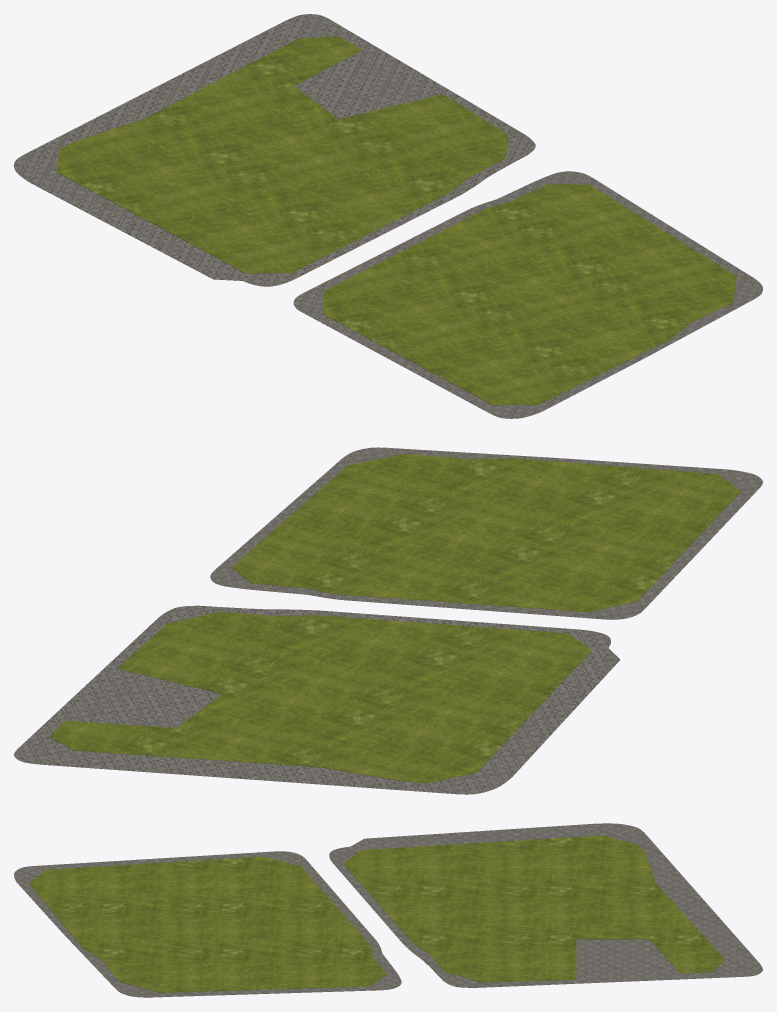
Rendered from EF_floor.FBX.
3 renders of one model, top to bottom at view 1: azimuth 30°, elevation 25°; view 2: azimuth 150°, elevation 25°; view 3: azimuth 270°, elevation 25°, orthographic. The views are drawn at different scales.
Parts seen in each view (by area): view 1: F_grass, E_grass, F_floor, E_floor; view 2: F_grass, E_grass, F_floor, E_floor; view 3: F_grass, E_grass, F_floor, E_floor.
Part boxes in pixels (x1,y1,x2,y2): F_grass: [56, 36, 508, 273]; E_grass: [323, 183, 736, 405]; F_floor: [14, 14, 535, 286]; E_floor: [293, 171, 762, 418]; F_grass: [49, 612, 591, 783]; E_grass: [231, 453, 740, 612]; F_floor: [14, 605, 620, 794]; E_floor: [210, 447, 762, 619]; F_grass: [343, 835, 724, 982]; E_grass: [28, 856, 386, 992]; F_floor: [329, 823, 762, 987]; E_floor: [14, 851, 401, 997].
Size of the model in its own units: 192 by 0.1836 by 349.
